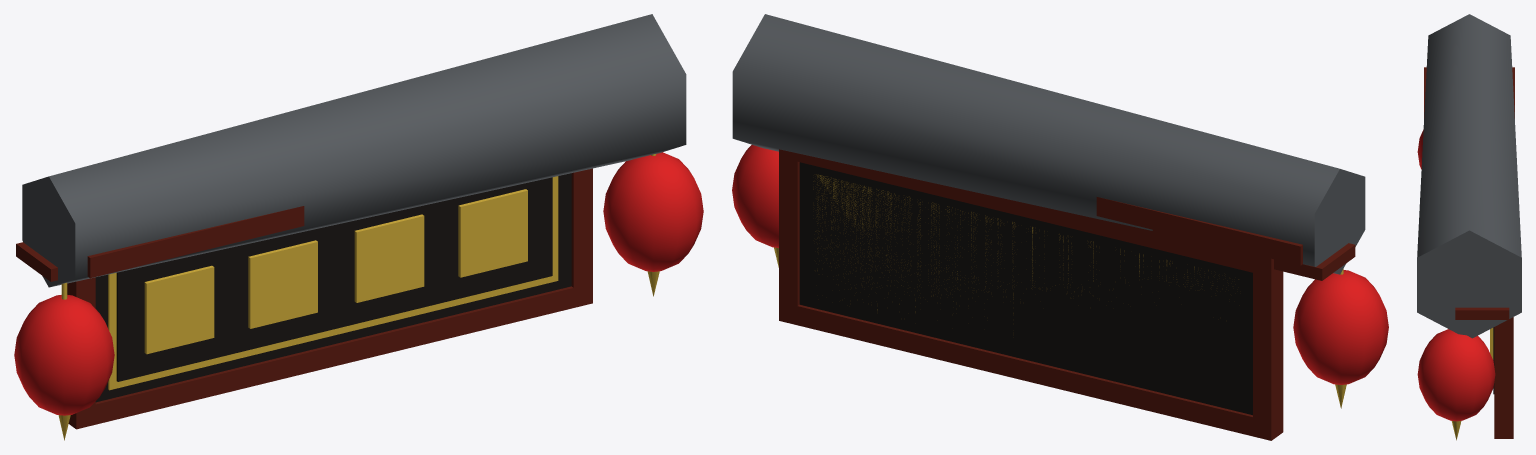
The model's file is pal1-inn-sign.glb.
3 views of the same model, side by side, from view 1: azimuth 30°, elevation 25°; view 2: azimuth 150°, elevation 25°; view 3: azimuth 270°, elevation 25° (orthographic). The views are drawn at different scales.
Parts seen in each view (by area): view 1: Pal1InnSign; view 2: Pal1InnSign; view 3: Pal1InnSign.
Part boxes in pixels (x1=…): Pal1InnSign: x1=14, y1=14, x2=703, y2=440; Pal1InnSign: x1=732, y1=14, x2=1388, y2=440; Pal1InnSign: x1=1417, y1=14, x2=1521, y2=440.
Size of the model in its own units: 2.8 by 1.15 by 0.485.
